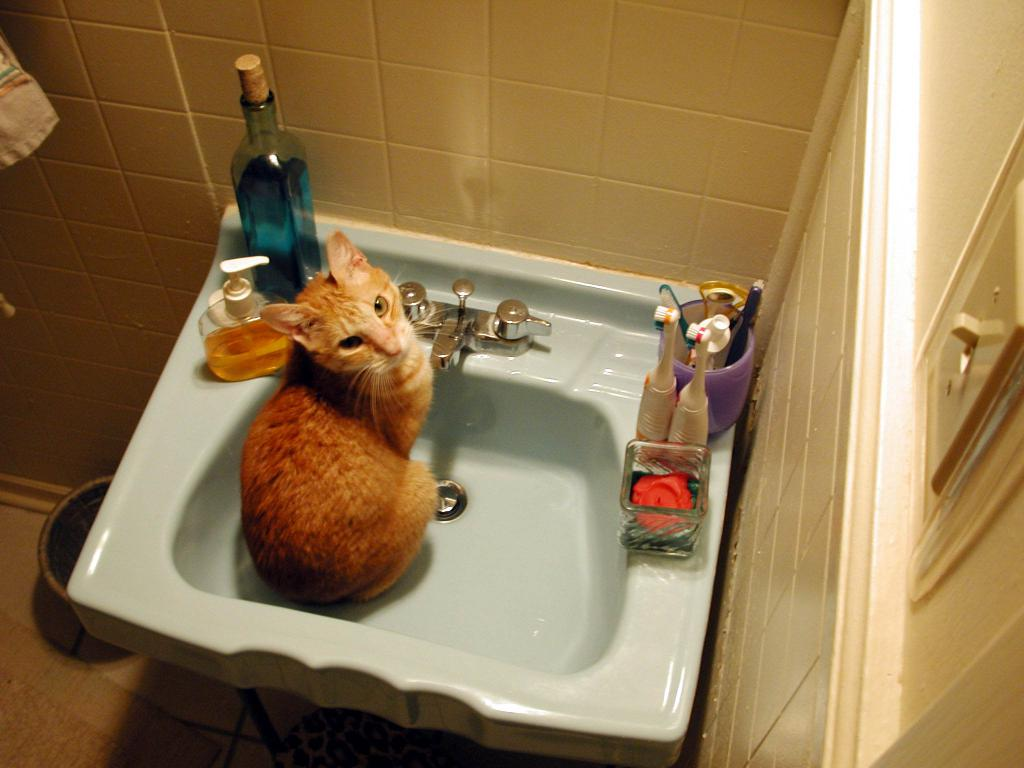tap: (431, 286, 557, 355)
